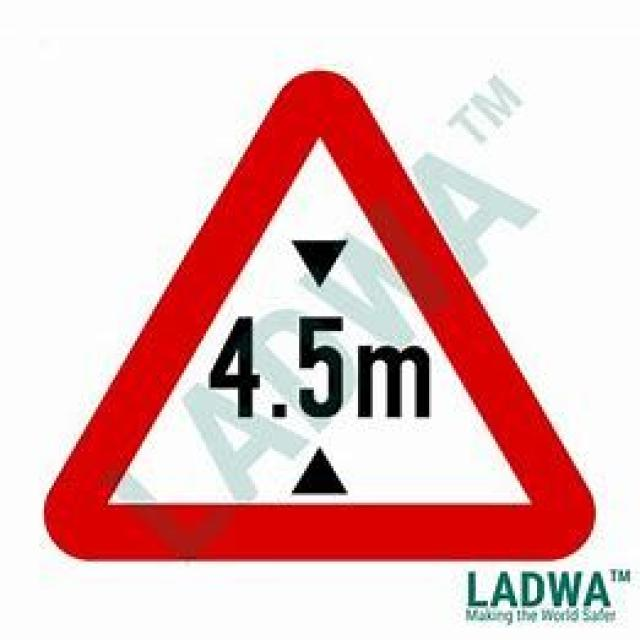HEIGHT_LIMIT: (44, 66, 597, 560)
